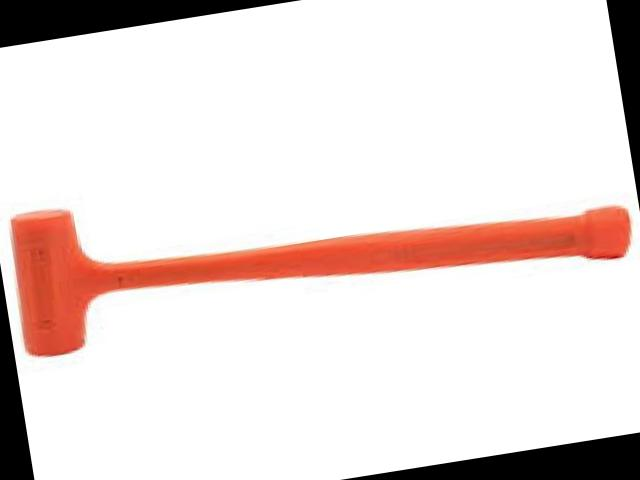hammer: (1, 118, 640, 362)
